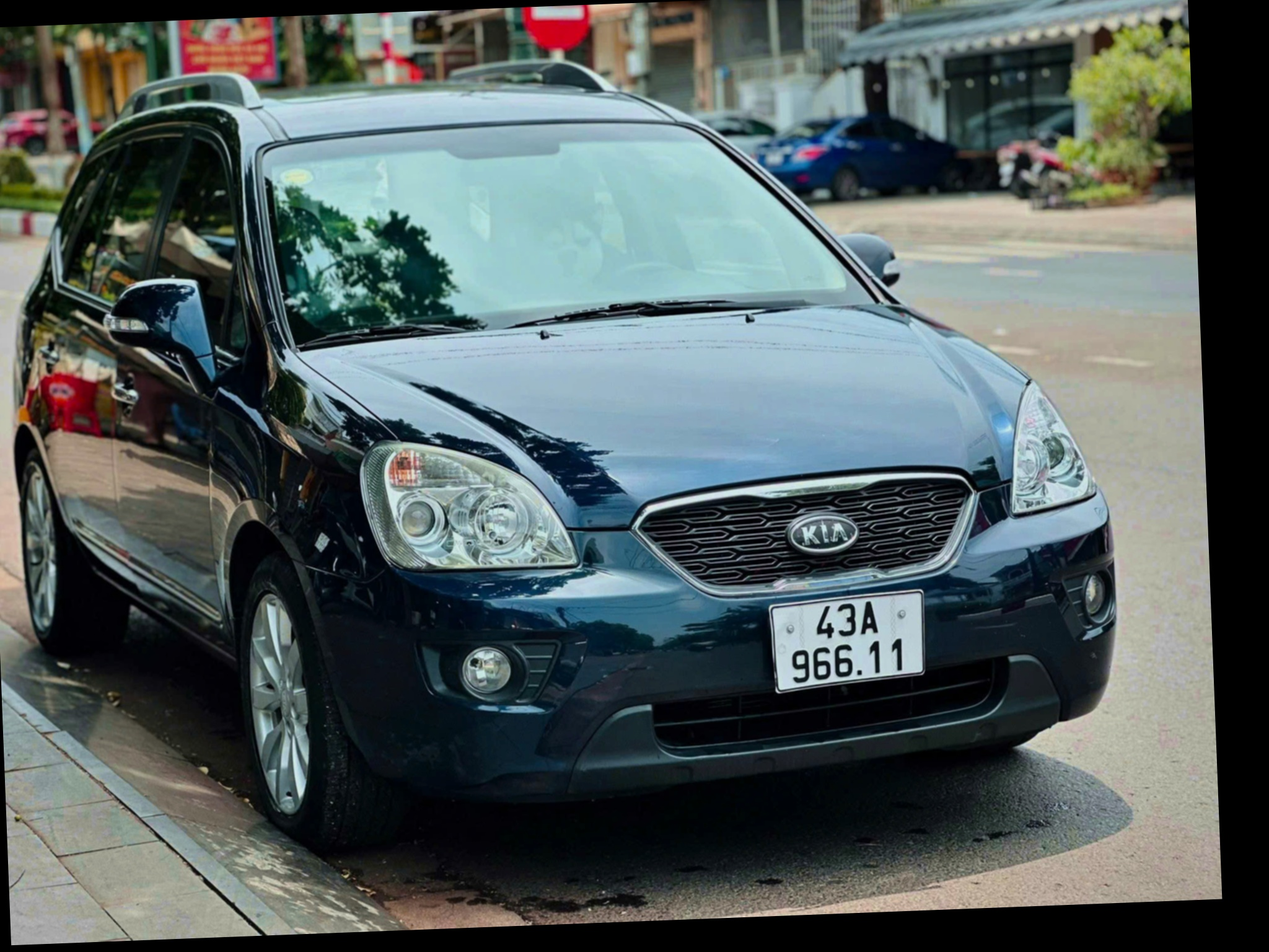Bien-so: (778, 593, 923, 686)
